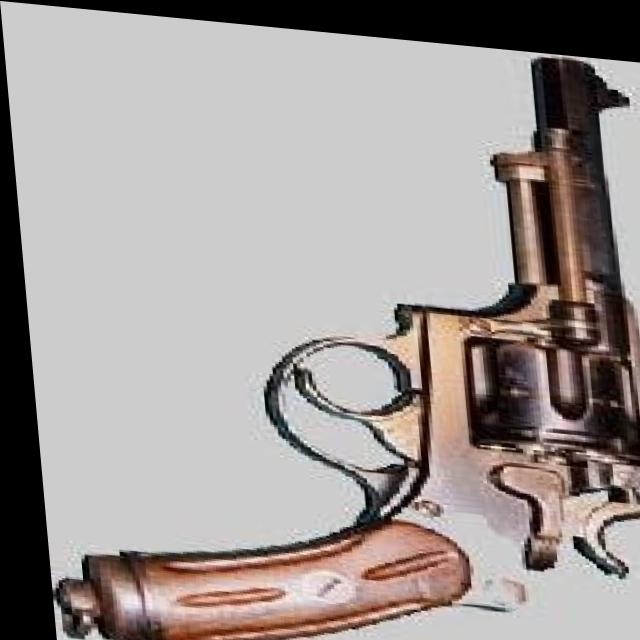handgun: (15, 9, 640, 640)
